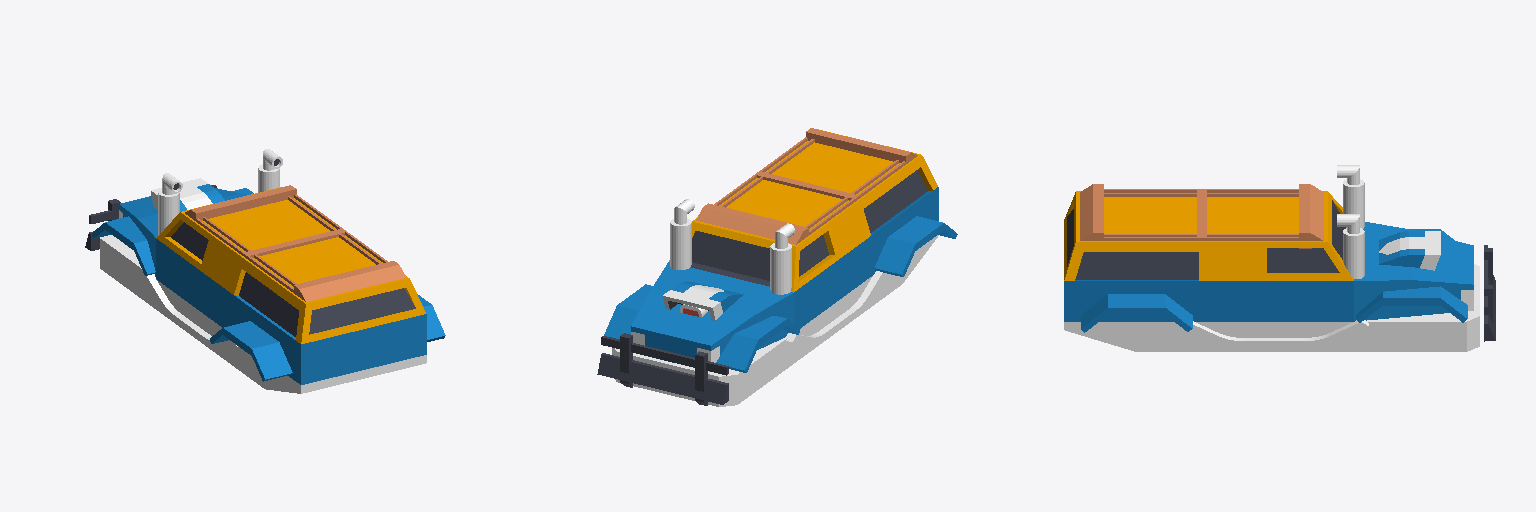
Rendered from Car05.obj.
3 renders of one model, left to right at view 1: azimuth 30°, elevation 25°; view 2: azimuth 150°, elevation 25°; view 3: azimuth 270°, elevation 25°, orthographic.
Parts seen in each view (by area): view 1: Car05; view 2: Car05; view 3: Car05.
Part boxes in pixels (x1,y1,x2,y2): Car05: (85,149,445,393); Car05: (597,128,957,406); Car05: (1064,165,1495,351).
Size of the model in its own units: 1.44 by 1 by 2.98.